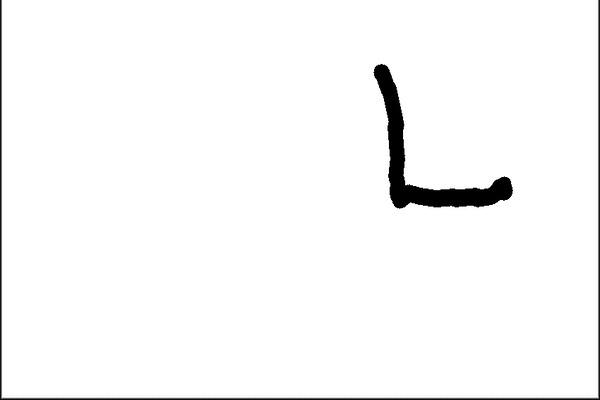L: (369, 52, 516, 213)
